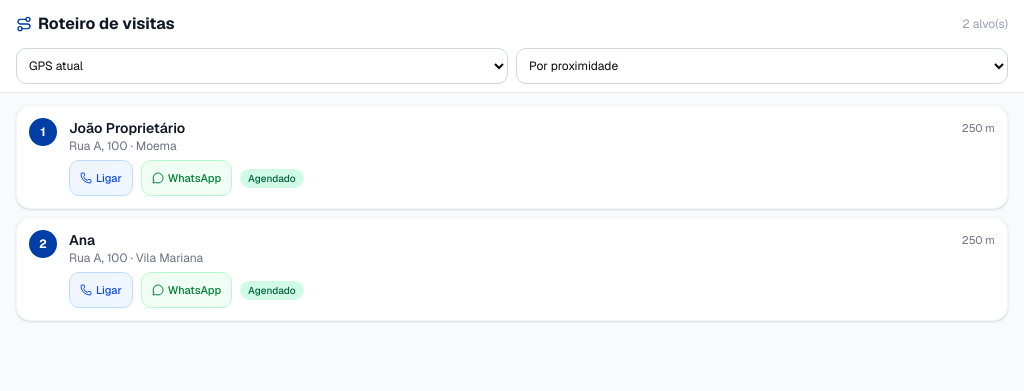
Test case: VisitRoute › agrupa por bairro quando a visão é "Por bairro" (AC3)
The width and height of the screenshot is (1024, 391).
Select "Por bairro" in the dropdown named "Modo de visão": (762, 66) 516,48 -> 1008,84
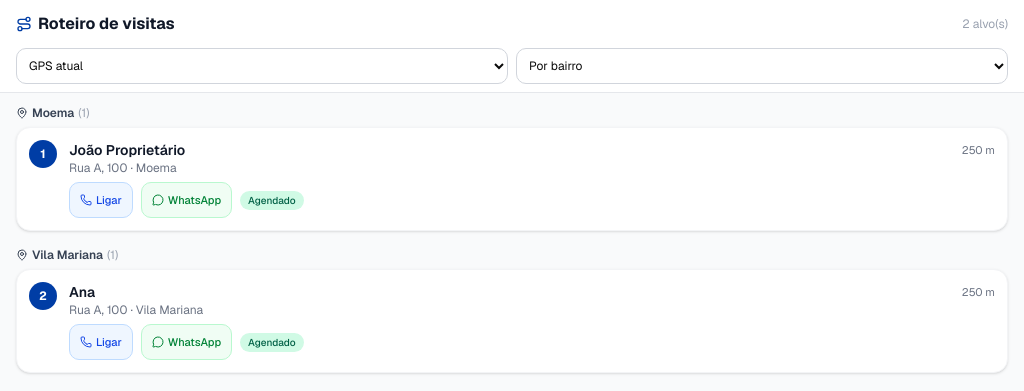
Expected: the text "Vila Mariana" is shown, 32,247 -> 103,263
